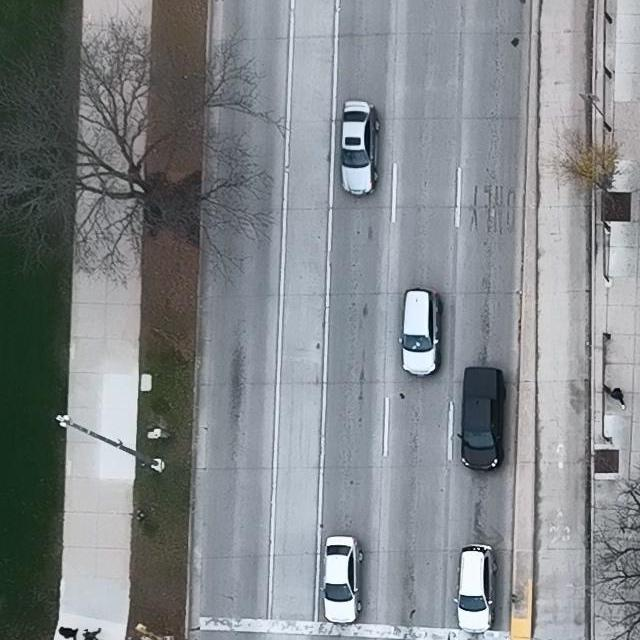car: (457, 366, 506, 472), (320, 535, 364, 625), (453, 544, 497, 634), (340, 100, 379, 197), (398, 288, 440, 376)
